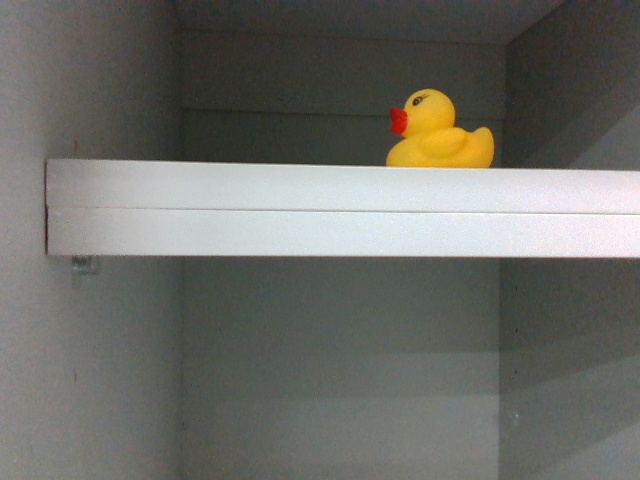duck: (383, 79, 498, 174)
